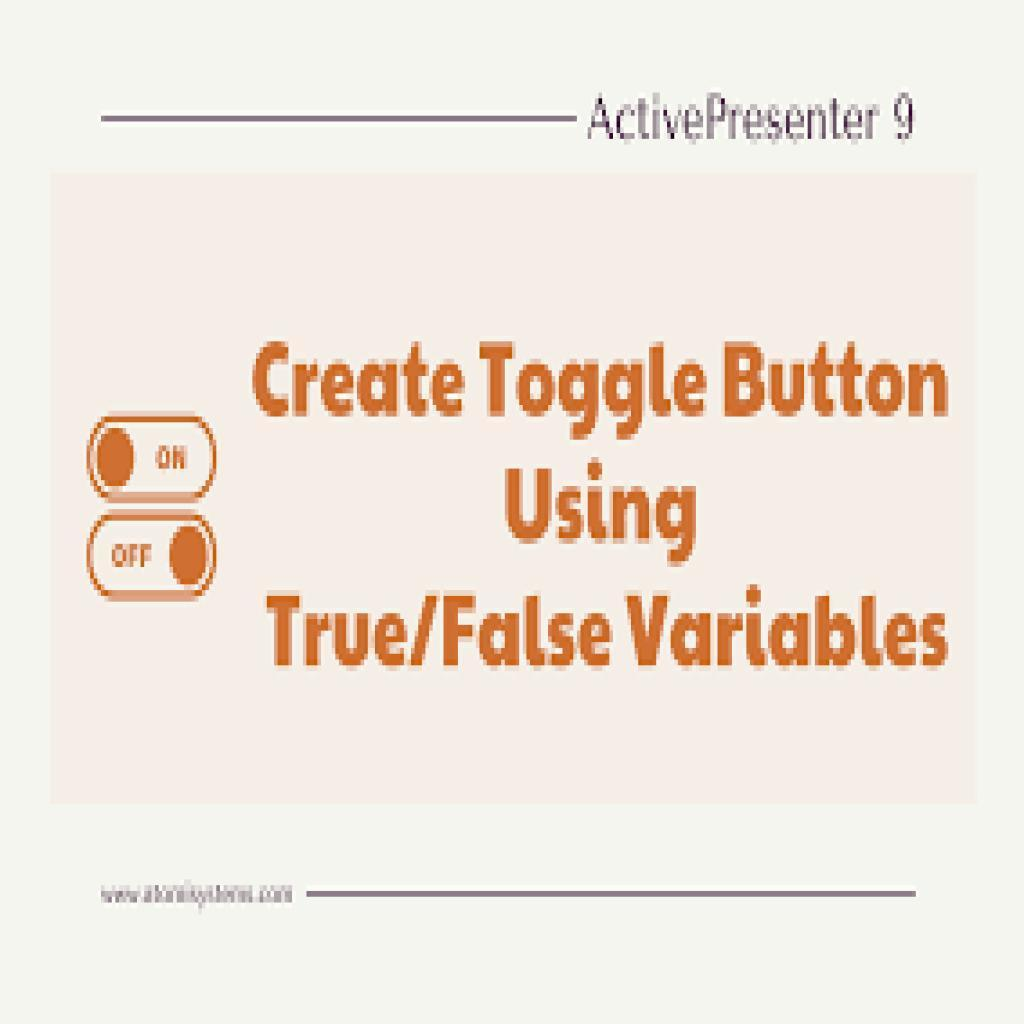switch: (85, 409, 223, 511), (83, 508, 224, 602)
